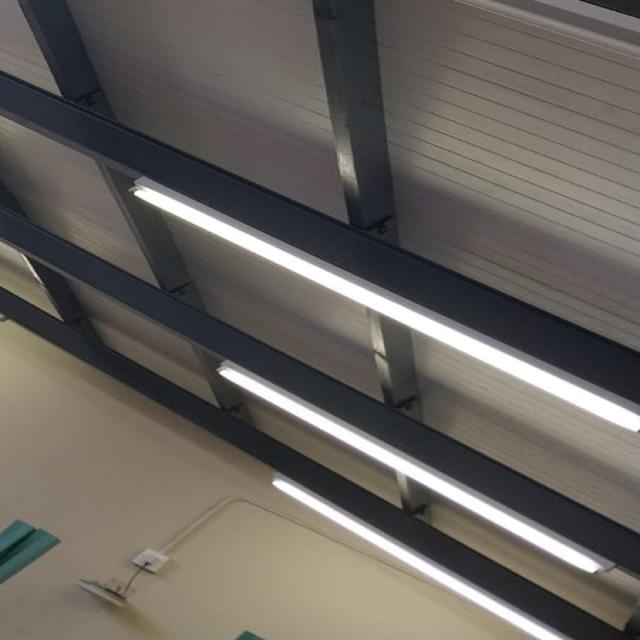fluorescent tube: (92, 150, 640, 454), (178, 342, 622, 590), (239, 466, 597, 640), (0, 0, 640, 84), (0, 204, 38, 373)
